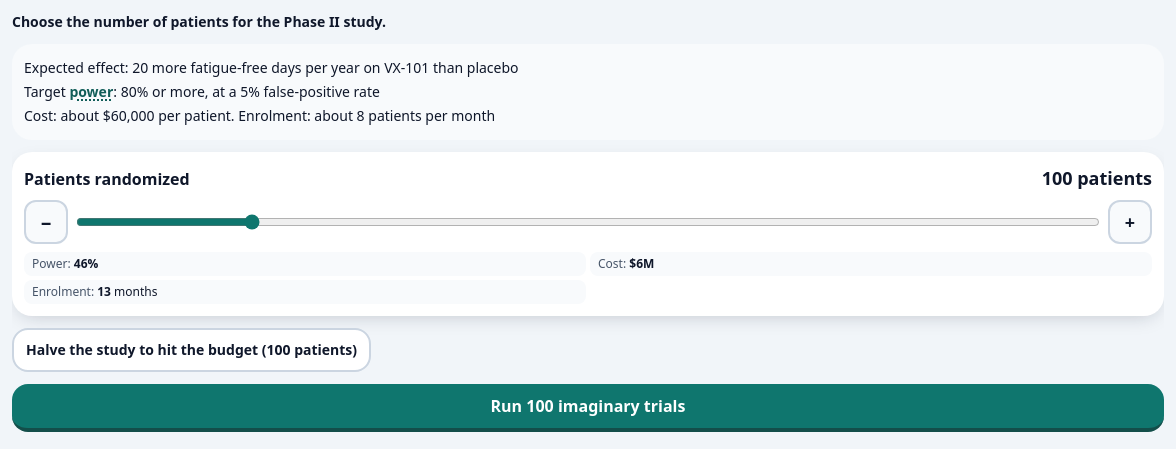
Scenario: Allocator projections › trial-power: 200 patients previews and projects the same power, cost and months
The image size is (1176, 449).
Set the slider with test id "slider-n" to "200" at (532, 222), box [76,200,1100,244]
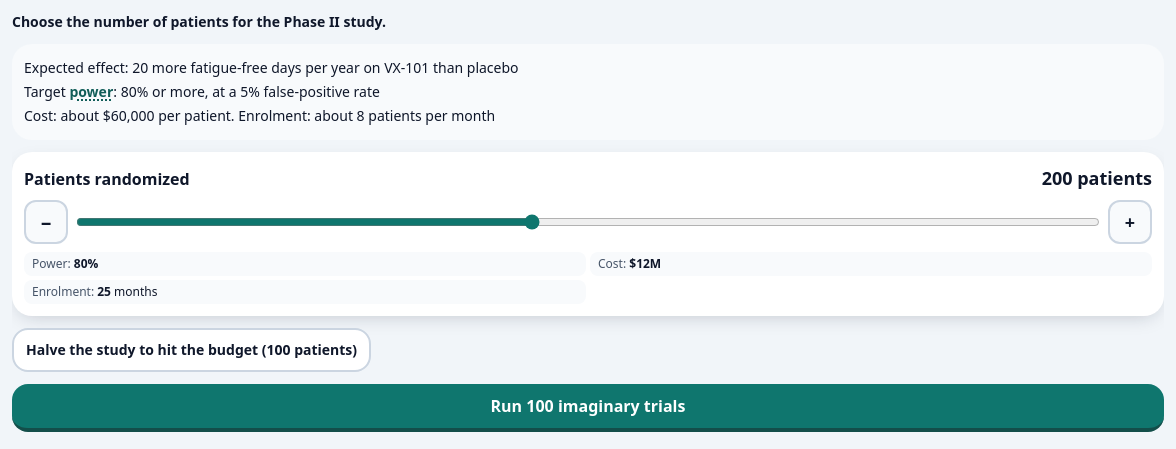
Expected: the text with test id "curve-power" reads "80%", [74,255,98,272]
Expected: the text with test id "curve-cost" reads "$12M", [629,255,661,272]
Expected: the text with test id "curve-months" reads "25", [97,283,111,300]
Click the button with test id "allocator-commit".
click(588, 408)  # box [12,384,1164,432]
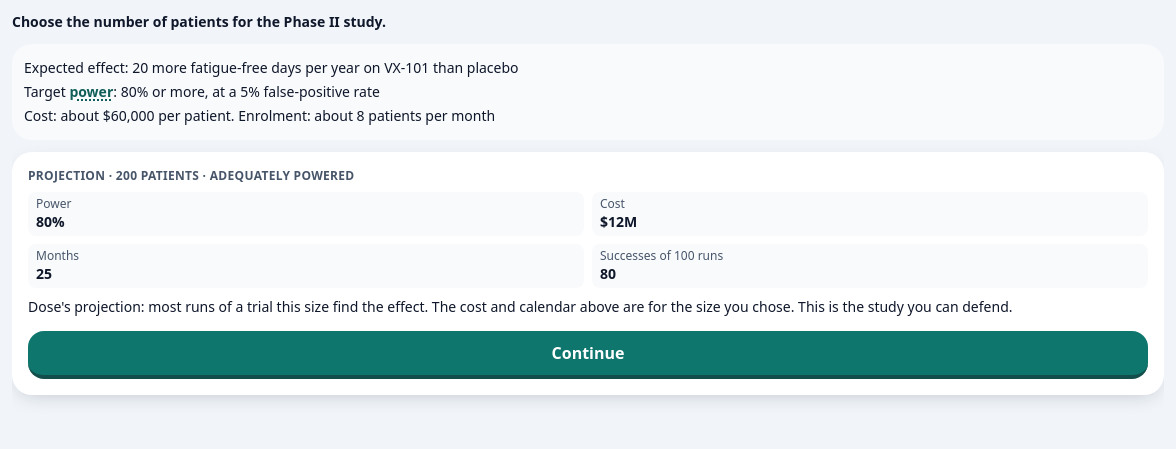
Expected: the element with test id "reveal" shows "80%", [36,212,65,231]
Expected: the element with test id "reveal" shows "$12M", [600,212,637,231]
Expected: the element with test id "reveal" shows "25", [36,264,52,283]
